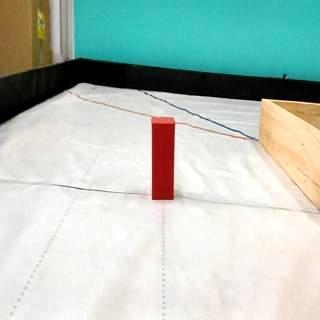redbox: (151, 114, 176, 200)
